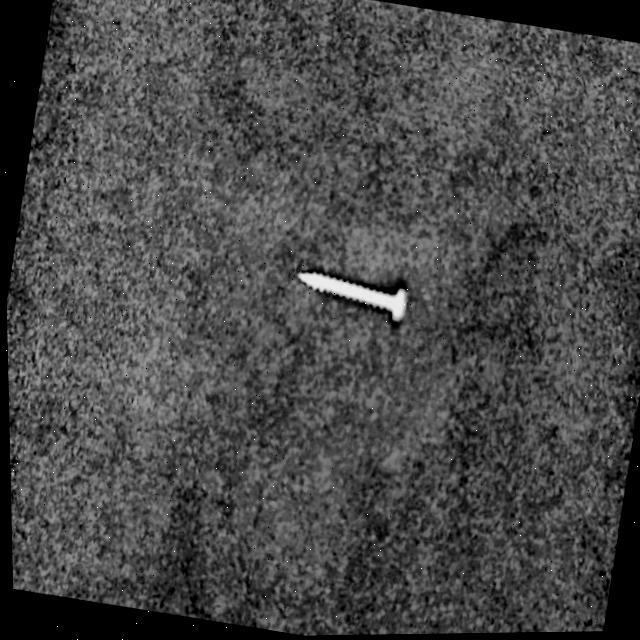Sheet metal screw: (288, 265, 407, 323)
